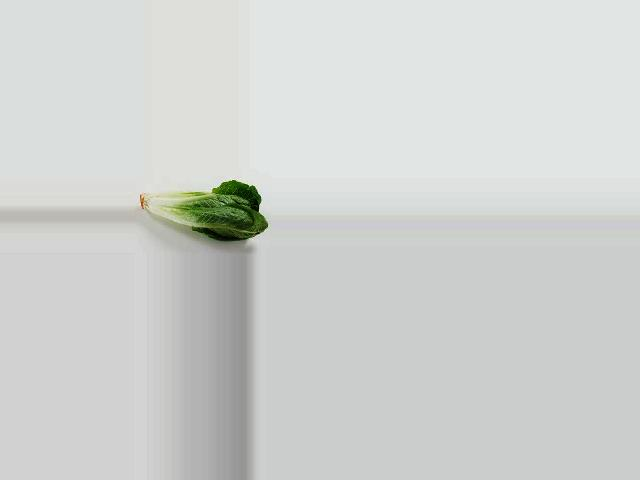lettuce: (133, 178, 268, 244)
